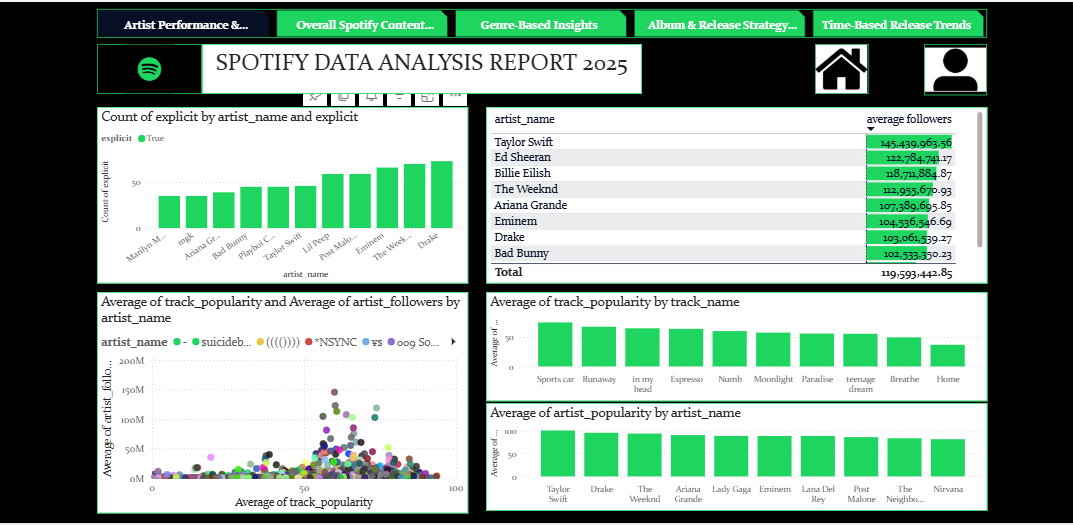

What the dashboard file says about the page in this screenshot:
{"tool":"powerbi","page":{"name":"Artist Performance & Influence","canvas":[1280,720],"ordinal":0},"visuals":[{"type":"tableEx","fields":{"Values":["spotify_data clean.artist_name","spotify_data clean.average followers"]},"box":[567.6,145.1,692.6,244.3],"z":0},{"type":"columnChart","fields":{"Category":["spotify_data clean.artist_name"],"Series":["spotify_data clean.explicit"],"Y":["CountNonNull(spotify_data clean.explicit)"]},"box":[30.2,145.1,513,244.3],"z":1000},{"type":"columnChart","fields":{"Category":["spotify_data clean.track_name"],"Y":["Avg(spotify_data clean.track_popularity)"]},"box":[567.6,400.9,692.6,150.9],"z":2000},{"type":"columnChart","fields":{"Category":["spotify_data clean.artist_name"],"Y":["Avg(spotify_data clean.artist_popularity)"]},"box":[567.6,554.6,692.6,149.4],"z":3000},{"type":"scatterChart","fields":{"X":["Avg(spotify_data clean.track_popularity)"],"Y":["Avg(spotify_data clean.artist_followers)"],"Series":["spotify_data clean.artist_name"]},"box":[30.2,400.9,513,306.1],"z":4000},{"type":"textbox","box":[175.3,57.5,607.8,69],"z":5000},{"type":"image","box":[30.2,57.5,145.1,69],"z":6000},{"type":"pageNavigator","box":[30.2,10.1,1230,40.2],"z":7000},{"type":"image","box":[1023.3,57.7,73.6,68.7],"z":8000},{"type":"image","box":[1173,57.7,87.1,71.2],"z":9000}]}

Visuals, with their boxes in screenshot pixels (x1, y1, x2, y2):
tableEx - spotify_data clean.artist_name x spotify_data clean.average followers: 484, 104, 982, 280
columnChart - spotify_data clean.artist_name x spotify_data clean.explicit: 97, 104, 466, 280
columnChart - spotify_data clean.track_name x Avg(spotify_data clean.track_popularity): 484, 288, 982, 397
columnChart - spotify_data clean.artist_name x Avg(spotify_data clean.artist_popularity): 484, 399, 982, 507
scatterChart - Avg(spotify_data clean.track_popularity) x Avg(spotify_data clean.artist_followers): 97, 288, 466, 509
textbox: 202, 41, 639, 91
image: 97, 41, 202, 91
pageNavigator: 97, 7, 982, 36
image: 812, 42, 865, 91
image: 919, 42, 982, 93
